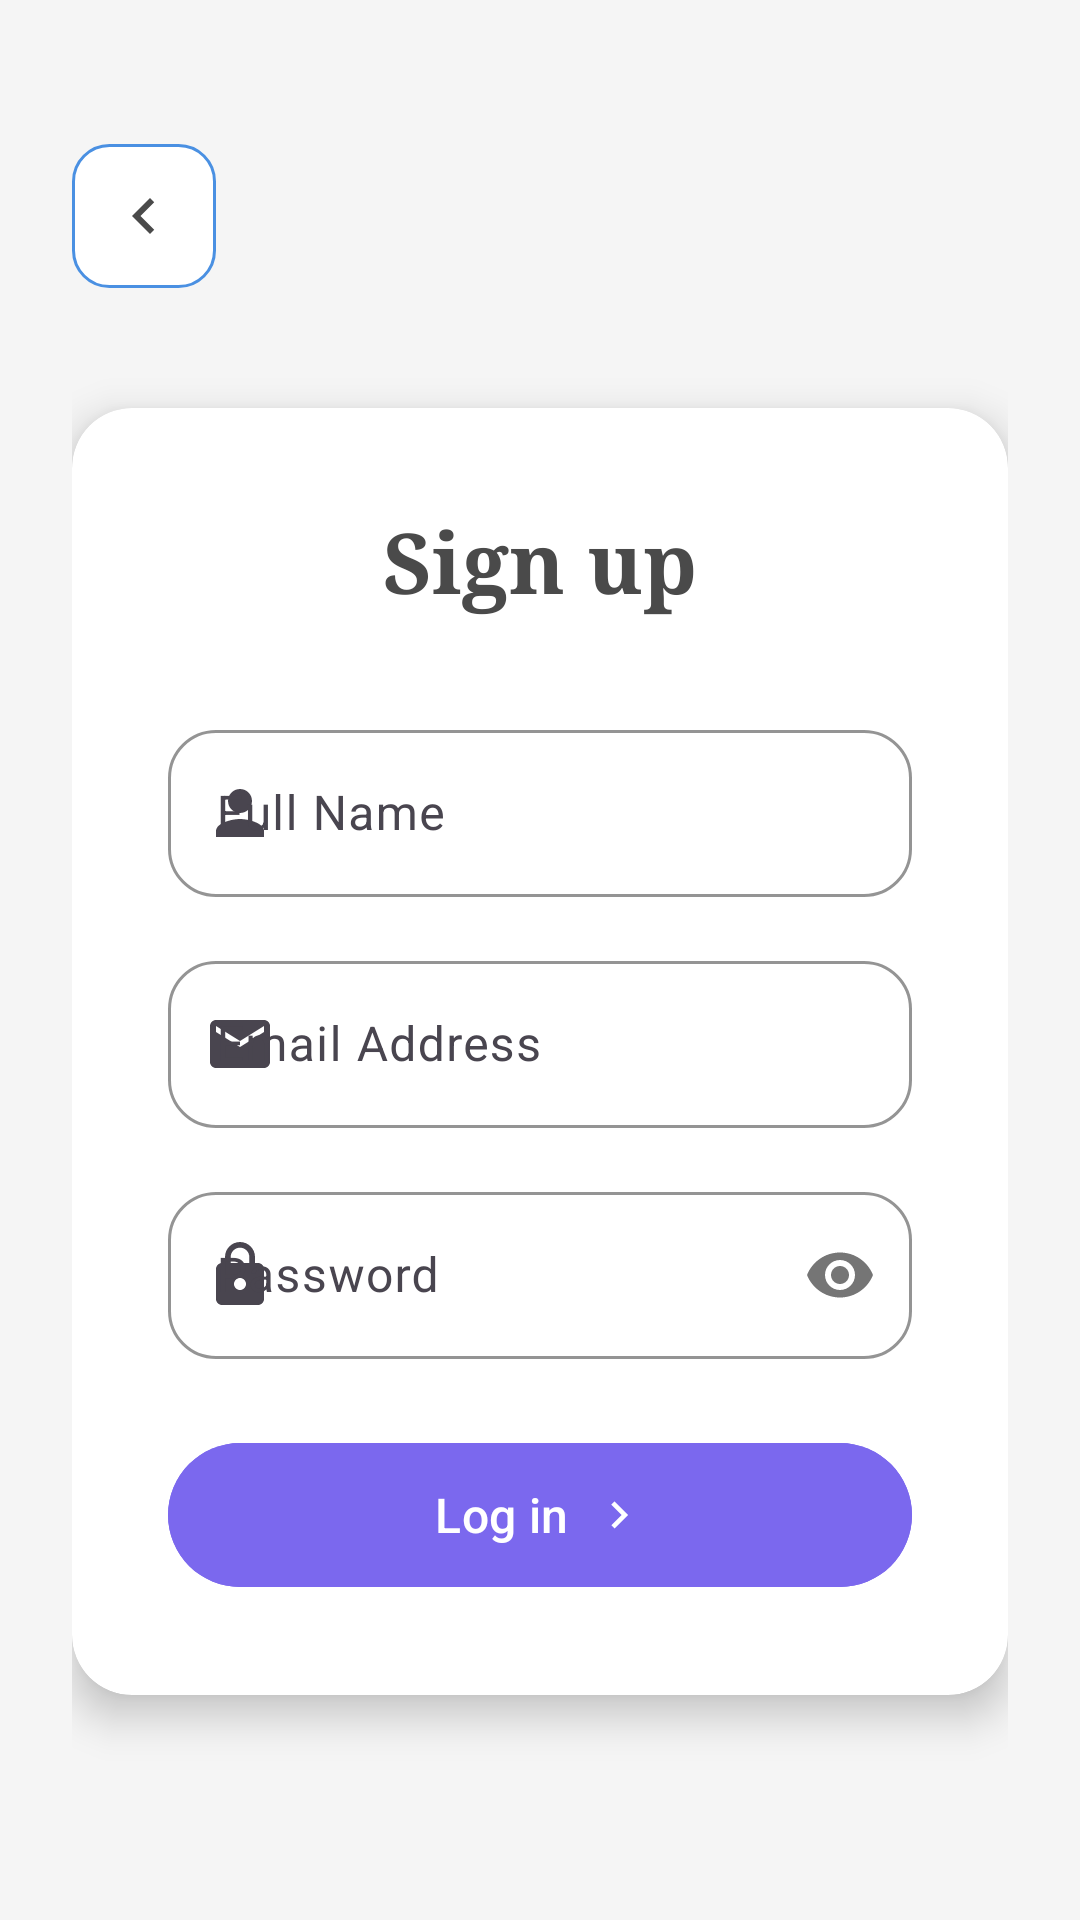

Icon click points for this 1080x1920 phone screenshot, format (x,y):
Back: (144,216)
